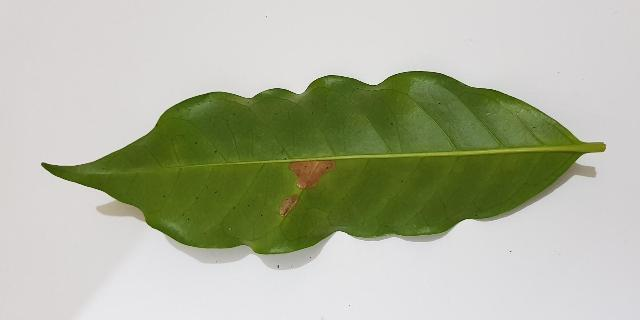cercospora: (289, 160, 336, 189), (280, 195, 299, 216)
